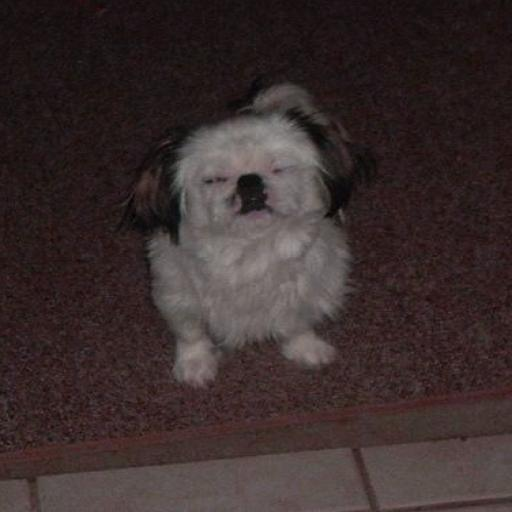dog_face: (128, 106, 383, 237)
